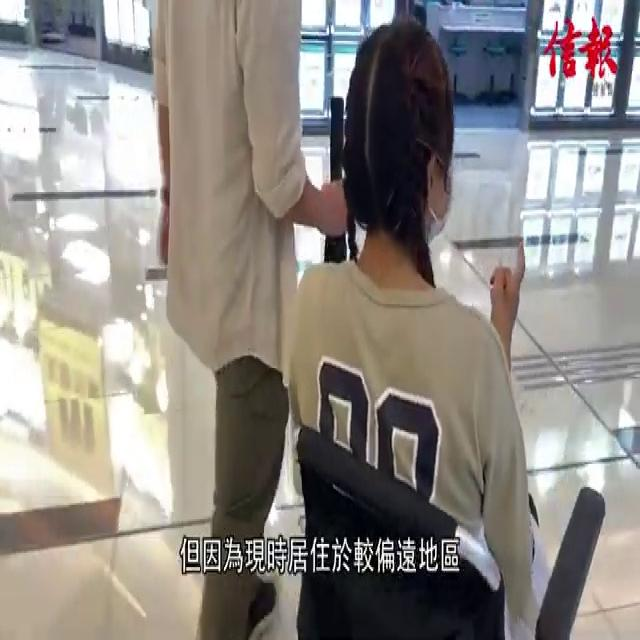wheelchairs: (282, 375, 614, 640)
